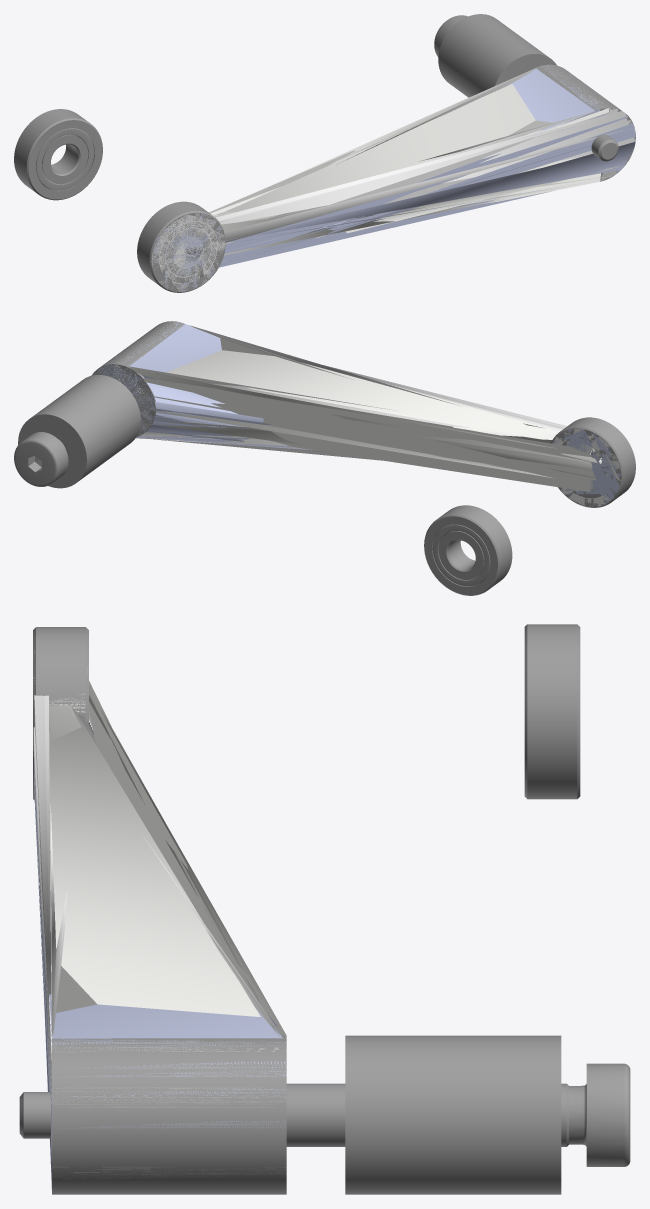
The model's file is arm_link3.dae.
3 views of the same model, one above another, from view 1: azimuth 30°, elevation 25°; view 2: azimuth 150°, elevation 25°; view 3: azimuth 270°, elevation 25° (orthographic). The views are drawn at different scales.
Parts seen in each view (by area): view 1: node0, node1, node4, node3, node2; view 2: node4, node0, node1, node3, node2; view 3: node0, node4, node1, node3, node2.
Boxes of the visible parts, box(x1,y1,x2,y2) form: node0: box(14, 14, 635, 292); node1: box(151, 65, 635, 291); node4: box(152, 68, 634, 291); node3: box(151, 66, 635, 291); node2: box(168, 66, 635, 276); node4: box(95, 338, 621, 506); node0: box(14, 321, 635, 595); node1: box(97, 322, 620, 506); node3: box(95, 325, 620, 506); node2: box(92, 321, 602, 490); node0: box(19, 624, 630, 1194); node4: box(33, 651, 286, 1188); node1: box(33, 667, 286, 1187); node3: box(33, 695, 284, 1151); node2: box(52, 1042, 286, 1179).
Size of the model in its own units: 0.1412 by 0.0225 by 0.0767.
